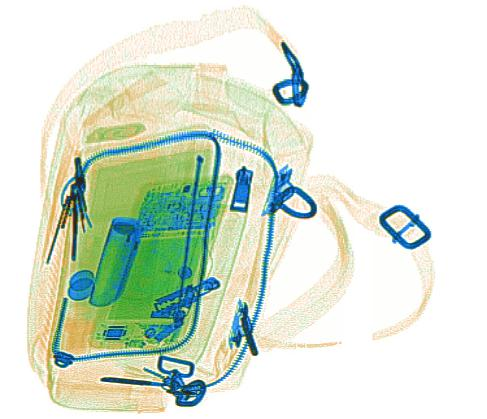knife: (152, 284, 201, 316)
